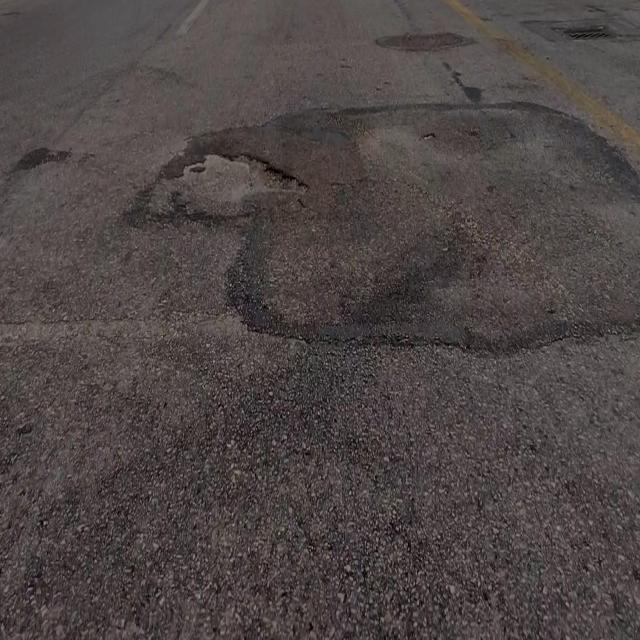Potholes: (162, 147, 308, 215)
